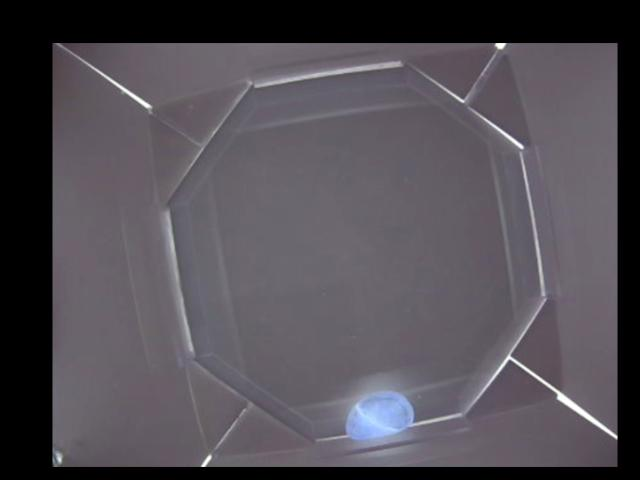Pebble: (345, 393, 418, 443)
